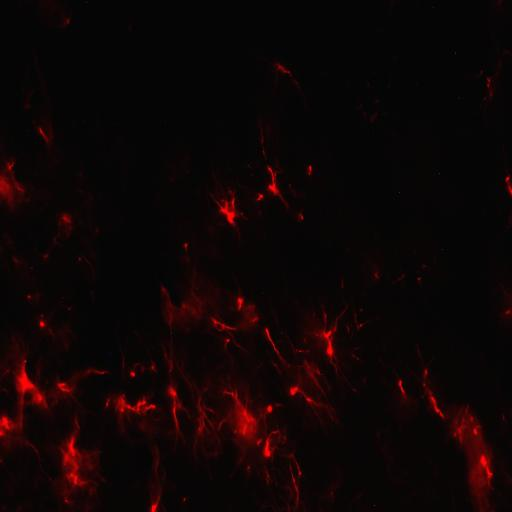microglia: (258, 46, 314, 111), (207, 181, 249, 246), (56, 470, 113, 510), (194, 382, 216, 481), (55, 422, 104, 466), (477, 82, 507, 146), (181, 267, 205, 334), (5, 354, 35, 404), (1, 162, 29, 213), (162, 382, 188, 436), (220, 386, 258, 422), (267, 164, 290, 216), (473, 446, 498, 492), (489, 284, 512, 331), (51, 204, 79, 242), (138, 480, 171, 512), (306, 394, 342, 422), (50, 4, 78, 37), (32, 116, 57, 152), (32, 314, 60, 344), (0, 407, 18, 452), (318, 342, 344, 370), (34, 360, 48, 411), (422, 382, 443, 416), (486, 51, 508, 83), (220, 422, 258, 440), (265, 328, 285, 362), (393, 370, 411, 406), (114, 326, 128, 372), (264, 430, 279, 470), (315, 317, 339, 339), (228, 284, 246, 313), (158, 280, 178, 306), (116, 390, 130, 427), (495, 153, 512, 183), (366, 265, 386, 290), (354, 316, 387, 330), (10, 251, 28, 276), (284, 380, 306, 400), (453, 415, 467, 446), (262, 398, 280, 422), (131, 393, 148, 418), (288, 466, 298, 506), (258, 117, 267, 159), (470, 422, 492, 439), (295, 454, 309, 479), (128, 353, 140, 381), (219, 319, 243, 333), (418, 359, 435, 378), (146, 354, 160, 377), (74, 255, 94, 271), (250, 305, 261, 334), (344, 375, 359, 396), (499, 184, 512, 208), (23, 291, 45, 305), (393, 270, 409, 288), (37, 248, 56, 262), (83, 368, 111, 376), (349, 352, 365, 366), (296, 206, 308, 224), (302, 162, 315, 178), (243, 461, 256, 476), (222, 334, 230, 358), (207, 314, 218, 330), (56, 382, 72, 392), (339, 273, 347, 292), (345, 323, 353, 341), (75, 168, 88, 179), (256, 188, 264, 205), (64, 304, 76, 315), (143, 404, 159, 412), (104, 396, 112, 412), (180, 494, 190, 506), (361, 374, 371, 386), (73, 187, 86, 196), (416, 274, 426, 285), (92, 227, 103, 237), (420, 263, 432, 270), (356, 306, 368, 313), (8, 160, 14, 170), (184, 243, 188, 249)
